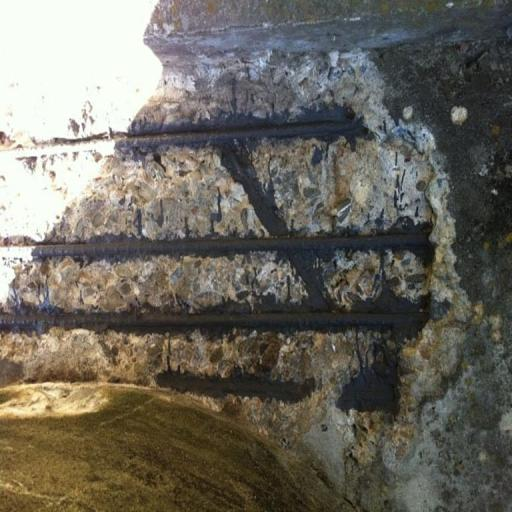spalling: (3, 56, 451, 422)
